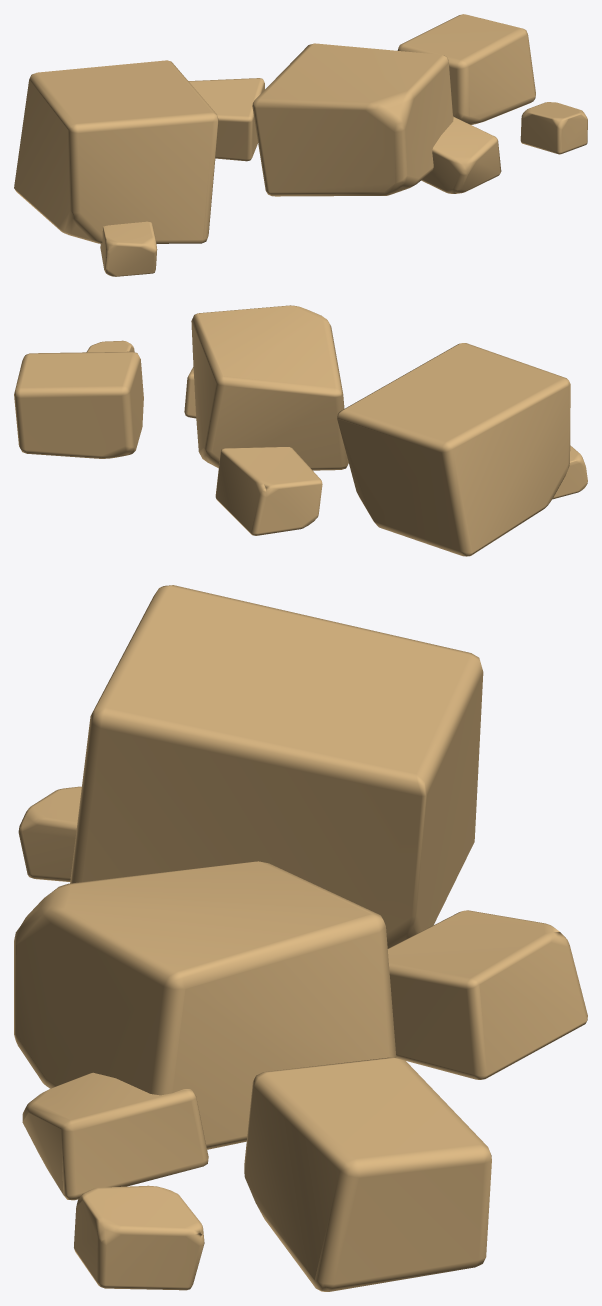
The model's file is P_RubbleA.fbx.
The picture shows the model from 3 angles, top to bottom: view 1: azimuth 30°, elevation 25°; view 2: azimuth 150°, elevation 25°; view 3: azimuth 270°, elevation 25°; orthographic projection. The views are drawn at different scales.
Parts seen in each view (by area): view 1: P_RubbleA; view 2: P_RubbleA; view 3: P_RubbleA.
Part boxes in pixels (bbox=[...]): P_RubbleA: bbox=[14, 14, 587, 276]; P_RubbleA: bbox=[14, 305, 587, 556]; P_RubbleA: bbox=[14, 585, 587, 1291].
Size of the model in its own units: 0.7548 by 0.1916 by 0.3884.
